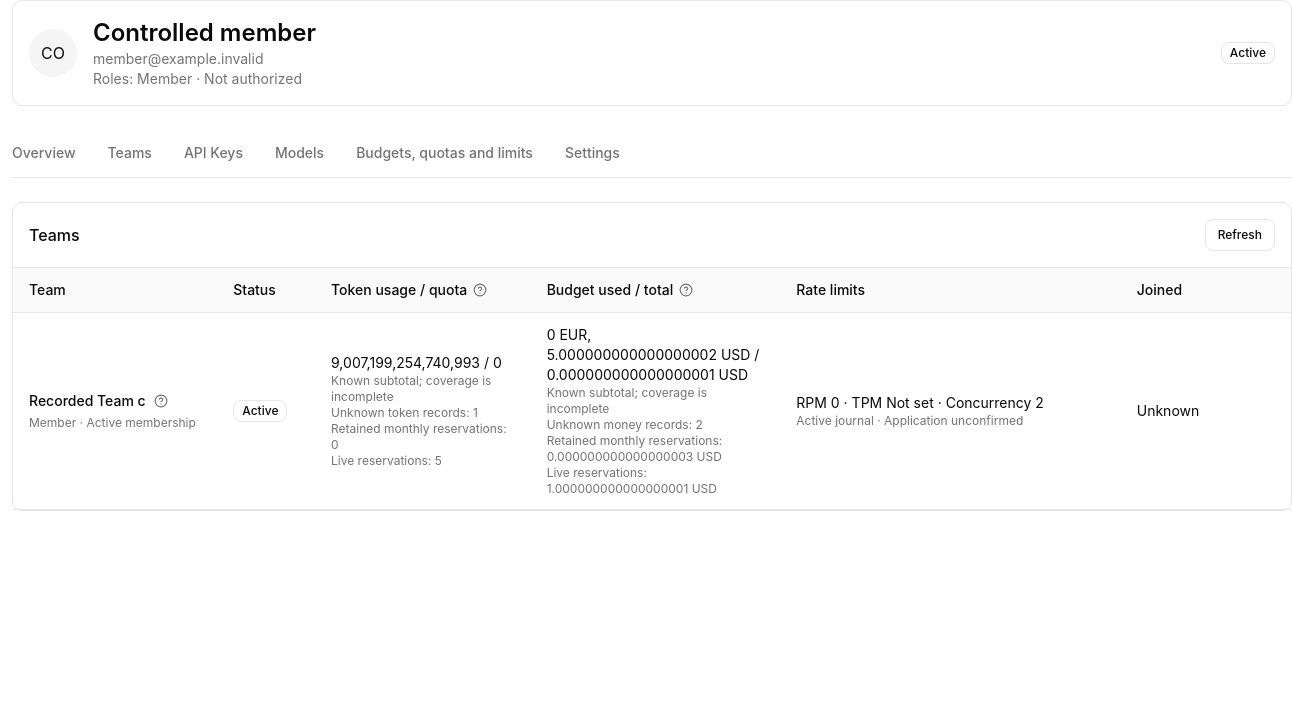
Test: denies a captured Team link and tooltip event before React paints revoked permissions
Click the link "Recorded Team c": (87, 401) [29, 391, 146, 411]
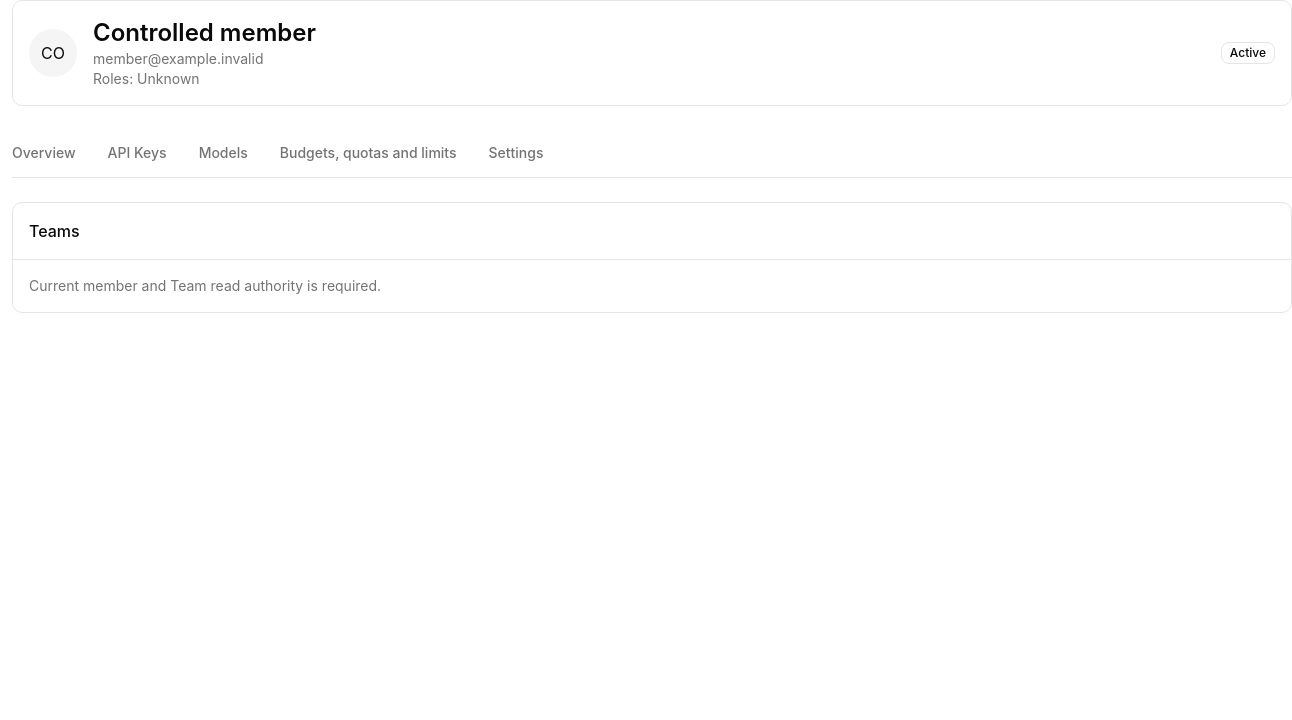
Expected: the text "Recorded Team c" is gone
